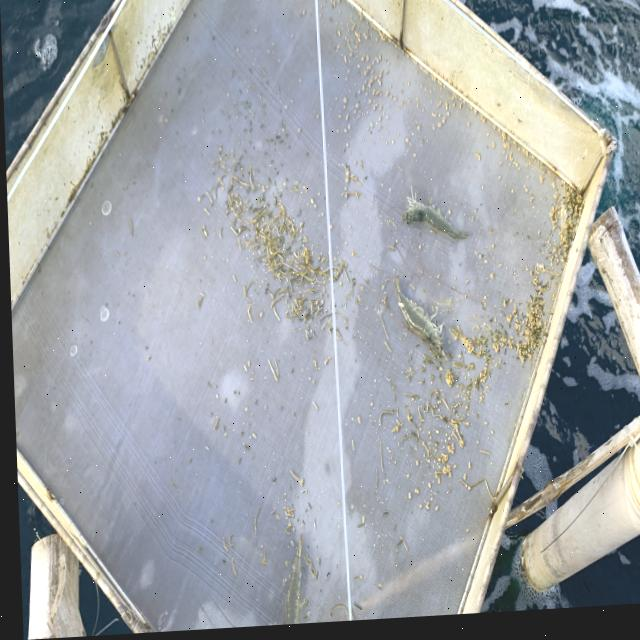Shrimp feeds: (473, 156, 482, 167), (354, 35, 362, 47), (369, 80, 373, 89), (487, 233, 491, 241), (377, 83, 381, 91), (363, 74, 368, 80), (366, 69, 371, 75), (113, 252, 117, 259), (361, 89, 365, 95), (355, 107, 359, 113), (337, 34, 341, 40), (372, 93, 375, 100), (385, 96, 389, 101), (366, 60, 369, 66), (385, 73, 388, 79), (378, 59, 381, 65), (344, 60, 346, 68), (390, 145, 393, 149), (400, 94, 402, 99), (378, 120, 380, 125)
